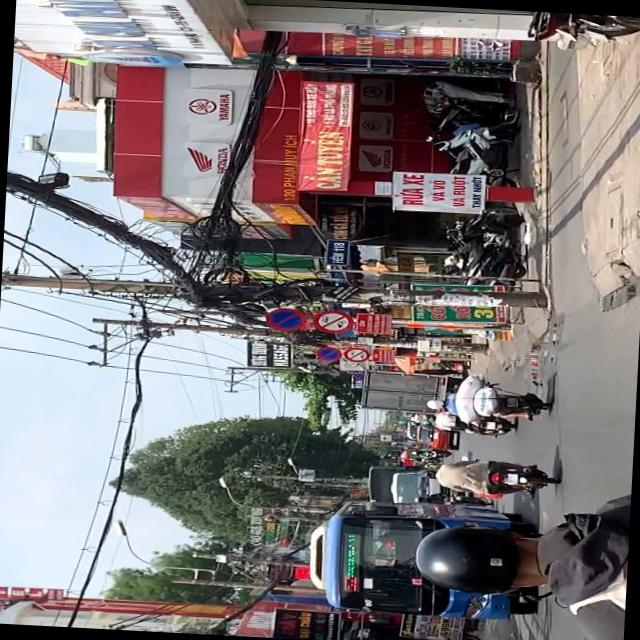P-131a: (265, 305, 305, 332)
